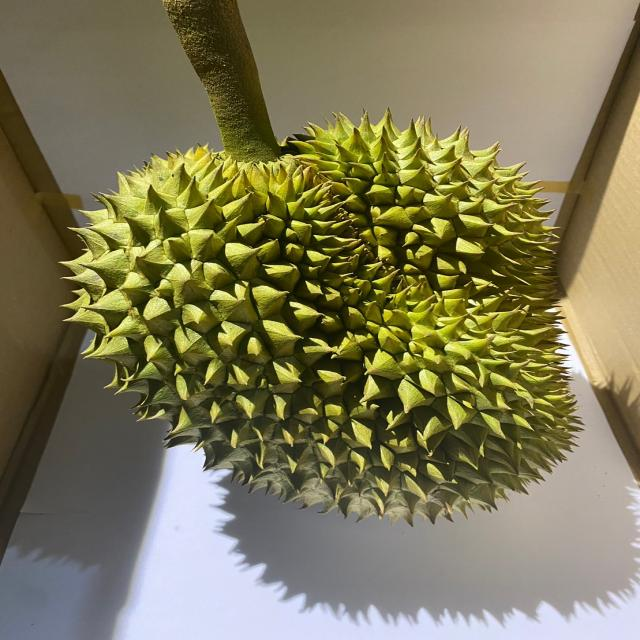immature: (55, 106, 588, 525)
